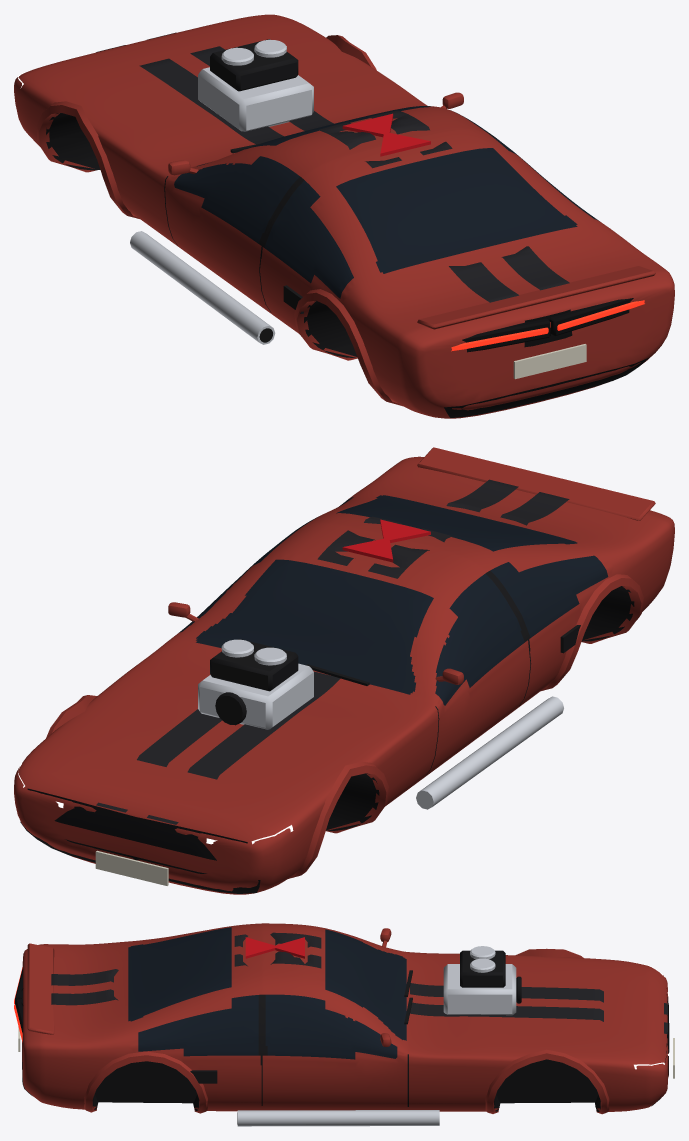
The model's file is car_widowmaker.glb.
The picture shows the model from 3 angles, top to bottom: view 1: azimuth 30°, elevation 25°; view 2: azimuth 150°, elevation 25°; view 3: azimuth 270°, elevation 25°; orthographic projection. The views are drawn at different scales.
Visible parts, largest first — view 1: body, parts, lips, strip0.001, strip9, strip2, strip2.001, strip1.001, strip1, strip0; view 2: body, parts, lips, strip3, strip0.001, strip0, strip2, strip2.001, strip1.001, strip1, strip6; view 3: body, parts, lips, strip0, strip0.001, strip2.001, strip2, strip1, strip1.001.
Part boxes in pixels (<box>): body: <box>14,14,674,418</box>; parts: <box>130,39,655,379</box>; lips: <box>36,35,403,406</box>; strip0.001: <box>96,45,284,144</box>; strip9: <box>444,357,649,417</box>; strip2: <box>501,246,569,290</box>; strip2.001: <box>449,262,518,302</box>; strip1.001: <box>317,122,401,168</box>; strip1: <box>368,110,452,155</box>; strip0: <box>147,32,333,130</box>; body: <box>14,456,674,894</box>; parts: <box>95,447,655,885</box>; lips: <box>46,574,643,878</box>; strip3: <box>27,788,247,860</box>; strip0.001: <box>147,671,340,824</box>; strip0: <box>96,709,221,812</box>; strip2: <box>446,479,518,512</box>; strip2.001: <box>500,492,569,525</box>; strip1.001: <box>368,528,452,578</box>; strip1: <box>317,516,401,565</box>; strip6: <box>20,821,260,893</box>; body: <box>22,923,668,1111</box>; parts: <box>14,928,674,1126</box>; lips: <box>84,948,609,1114</box>; strip0: <box>410,1002,667,1034</box>; strip0.001: <box>410,983,667,1014</box>; strip2.001: <box>51,969,118,985</box>; strip2: <box>51,989,118,1005</box>; strip1: <box>234,951,321,968</box>; strip1.001: <box>234,932,321,948</box>.
Size of the model in its own units: 2.06 by 1.1 by 4.91.
